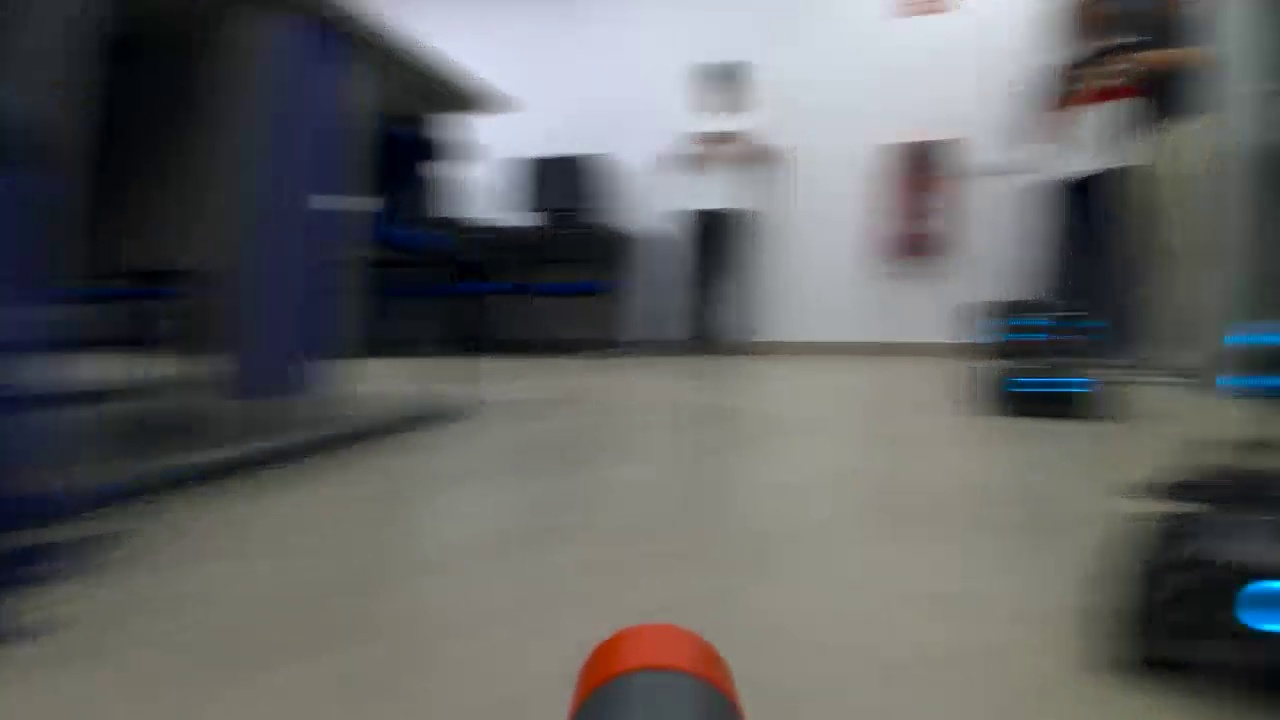robot: (1101, 310, 1280, 720), (961, 285, 1129, 428)
